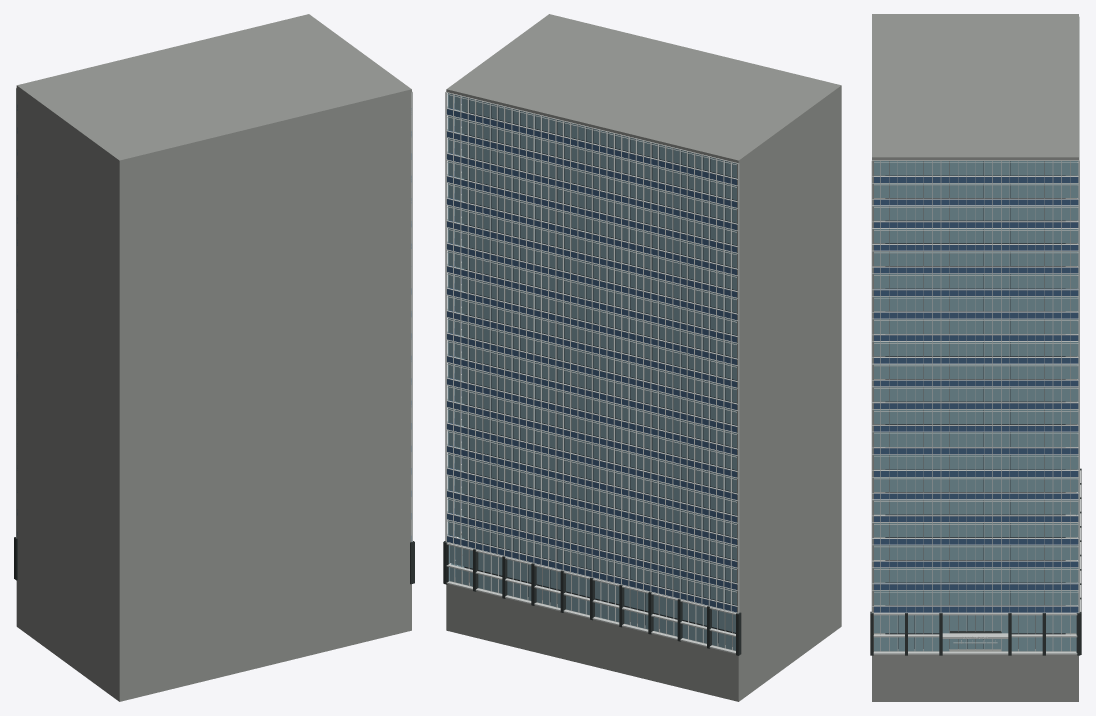
The model's file is borg_warner.glb.
3 renders of one model, left to right at view 1: azimuth 30°, elevation 25°; view 2: azimuth 150°, elevation 25°; view 3: azimuth 270°, elevation 25°, orthographic.
Visible parts, largest first — view 1: Roof and unsurveyed rear masonry, Projecting pale aluminum mullions; view 2: Roof and unsurveyed rear masonry, Separate pale blue opaque panes, Projecting pale aluminum mullions, Blue porcelain enamel spandrels, Opaque recessed interior, Black polished ground piers; view 3: Separate pale blue opaque panes, Roof and unsurveyed rear masonry, Projecting pale aluminum mullions, Blue porcelain enamel spandrels, Opaque recessed interior, Black polished ground piers.
Part boxes in pixels (bbox=[...]): Roof and unsurveyed rear masonry: bbox=[16, 14, 411, 701]; Projecting pale aluminum mullions: bbox=[16, 87, 412, 541]; Roof and unsurveyed rear masonry: bbox=[446, 14, 841, 701]; Separate pale blue opaque panes: bbox=[447, 93, 736, 650]; Projecting pale aluminum mullions: bbox=[445, 91, 739, 654]; Blue porcelain enamel spandrels: bbox=[447, 98, 736, 612]; Opaque recessed interior: bbox=[464, 98, 736, 646]; Black polished ground piers: bbox=[443, 533, 741, 655]; Separate pale blue opaque panes: bbox=[874, 161, 1078, 651]; Roof and unsurveyed rear masonry: bbox=[872, 14, 1078, 701]; Projecting pale aluminum mullions: bbox=[871, 16, 1081, 654]; Blue porcelain enamel spandrels: bbox=[874, 177, 1078, 612]; Opaque recessed interior: bbox=[885, 161, 1065, 648]; Black polished ground piers: bbox=[870, 468, 1081, 655].
Size of the model in its own units: 53.09 by 91.5 by 32.15.
